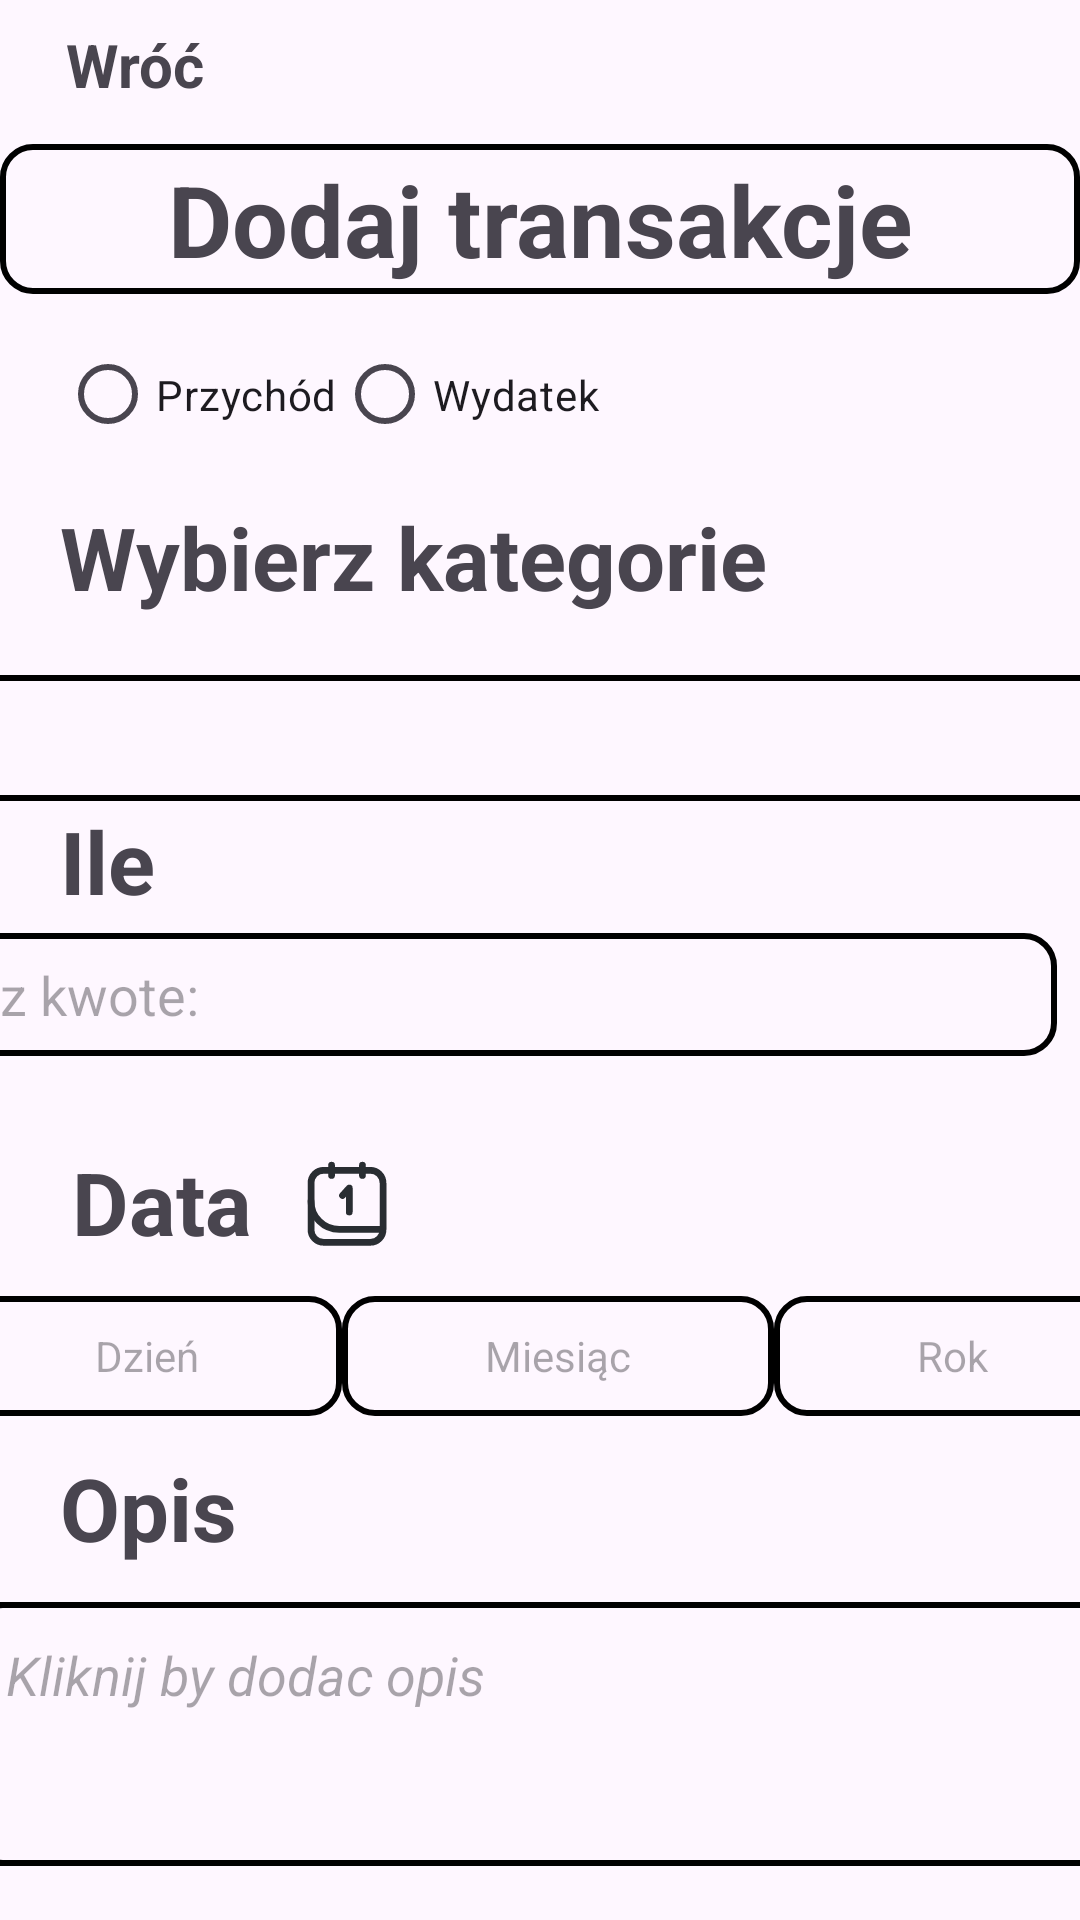

Named icons in this screenshot (1080w x 1920h) and their centers, [x,y]:
calender: [347,1203]
